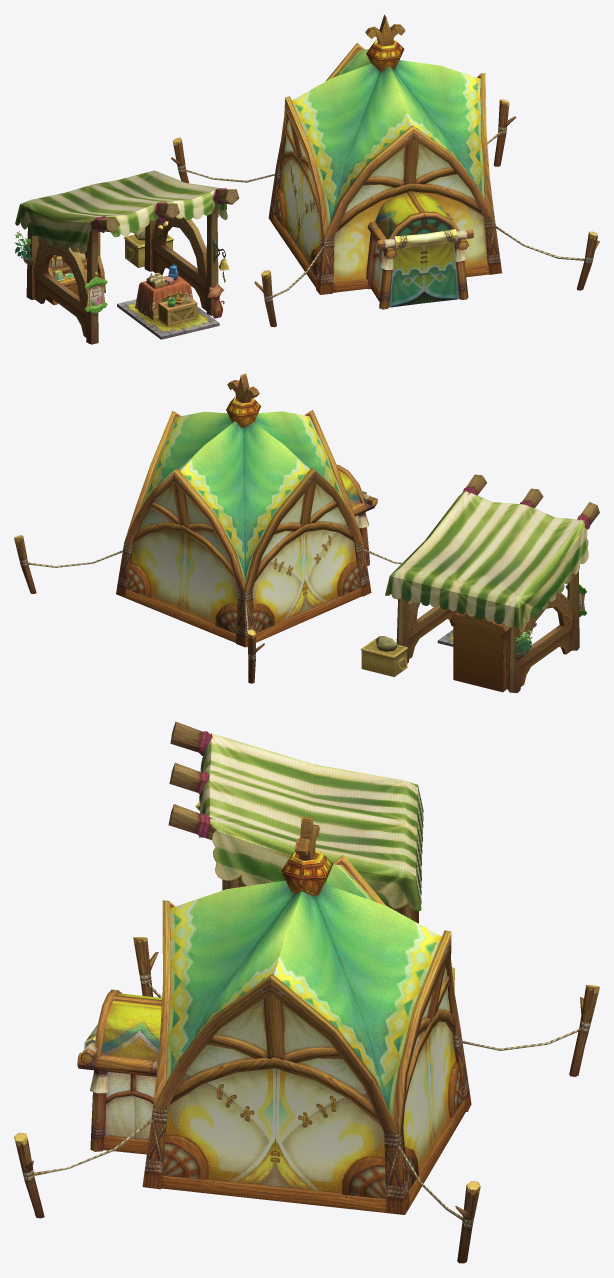
File: shop01.FBX
3 views of the same model, one above another, from view 1: azimuth 30°, elevation 25°; view 2: azimuth 150°, elevation 25°; view 3: azimuth 270°, elevation 25° (orthographic). The views are drawn at different scales.
Visible parts, largest first — view 1: Box003; view 2: Box003; view 3: Box003.
Boxes of the visible parts, <box> form: Box003: <box>15,14,599,344</box>; Box003: <box>14,373,599,692</box>; Box003: <box>14,721,599,1263</box>.
Size of the model in its own units: 35.92 by 15.27 by 24.67.
